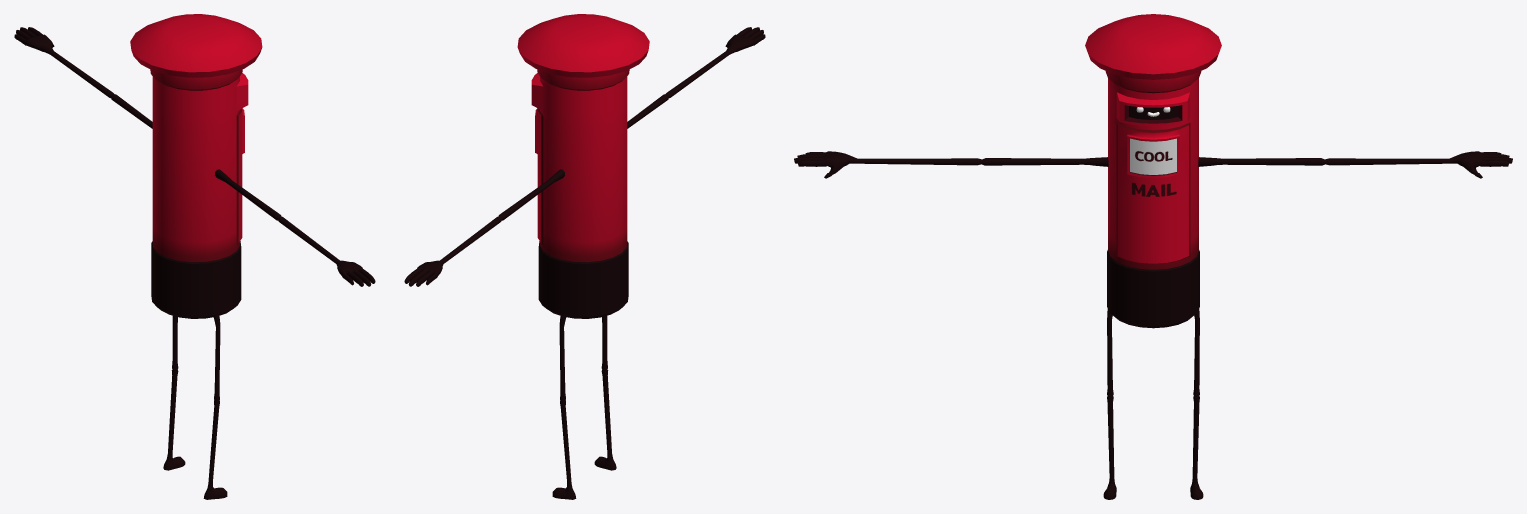
File: Mailbox Character.glb
The picture shows the model from 3 angles, left to right: view 1: azimuth 30°, elevation 25°; view 2: azimuth 150°, elevation 25°; view 3: azimuth 270°, elevation 25°; orthographic projection. The views are drawn at different scales.
Visible parts, largest first — view 1: _100Avatars_154_CoolMail; view 2: _100Avatars_154_CoolMail; view 3: _100Avatars_154_CoolMail.
Part boxes in pixels (x1,y1,x2,y2): _100Avatars_154_CoolMail: (14,14,375,499); _100Avatars_154_CoolMail: (404,14,765,499); _100Avatars_154_CoolMail: (794,14,1512,499).
Bounding box in the file's own units: 1.44 × 5.39 × 7.56.
Materials: 1 (1 with a texture image).
